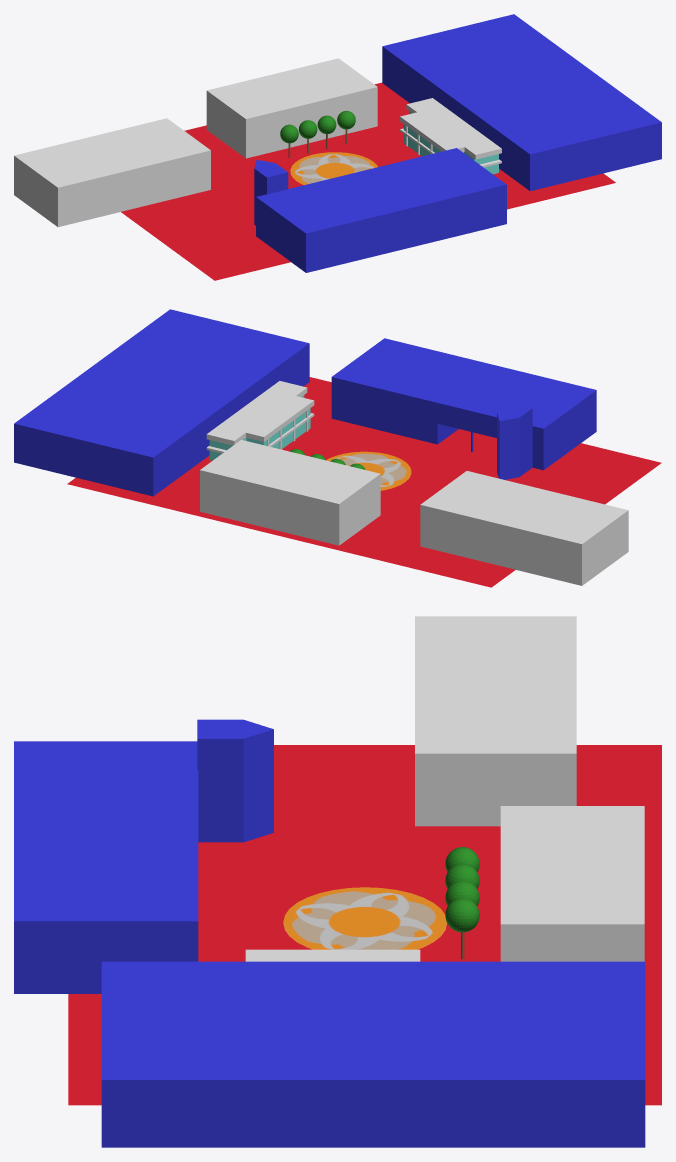
The model's file is mock1.glb.
The picture shows the model from 3 angles, top to bottom: view 1: azimuth 30°, elevation 25°; view 2: azimuth 150°, elevation 25°; view 3: azimuth 270°, elevation 25°; orthographic projection. The views are drawn at different scales.
Visible parts, largest first — view 1: Cube.001, Cube.003, ground, Cube.002, Cube, Cube.005, Cylinder, Cube.004, curry-glass; view 2: Cube.001, ground, Cube.003, Cube.002, Cube, Cube.005, Cube.004, Cylinder, curry-glass; view 3: Cube.001, ground, Cube.003, Cube.002, Cube, Cube.004, Cylinder, Cube.005, Sphere.
Boxes of the visible parts, x1=… form: Cube.001: x1=382, y1=14, x2=661, y2=191; Cube.003: x1=256, y1=148, x2=506, y2=272; ground: x1=121, y1=82, x2=615, y2=280; Cube.002: x1=14, y1=118, x2=210, y2=227; Cube: x1=206, y1=58, x2=377, y2=158; Cube.005: x1=400, y1=98, x2=501, y2=159; Cylinder: x1=290, y1=152, x2=377, y2=184; Cube.004: x1=254, y1=160, x2=288, y2=225; curry-glass: x1=403, y1=111, x2=498, y2=174; Cube.001: x1=14, y1=309, x2=309, y2=496; ground: x1=67, y1=377, x2=661, y2=587; Cube.003: x1=331, y1=338, x2=596, y2=470; Cube.002: x1=420, y1=471, x2=628, y2=585; Cube: x1=200, y1=440, x2=380, y2=545; Cube.005: x1=206, y1=381, x2=314, y2=445; Cube.004: x1=471, y1=402, x2=532, y2=479; Cylinder: x1=326, y1=451, x2=411, y2=490; curry-glass: x1=209, y1=395, x2=310, y2=460; Cube.001: x1=101, y1=961, x2=645, y2=1147; ground: x1=68, y1=745, x2=661, y2=1105; Cube.003: x1=14, y1=741, x2=198, y2=993; Cube.002: x1=415, y1=616, x2=576, y2=826; Cube: x1=500, y1=806, x2=644, y2=961; Cube.004: x1=197, y1=719, x2=273, y2=842; Cylinder: x1=283, y1=887, x2=446, y2=949; Cube.005: x1=245, y1=949, x2=420, y2=961; Sphere: x1=445, y1=898, x2=479, y2=932.
Size of the model in its own units: 4.89 by 0.5129 by 2.87.
Materials: 8 (1 with a texture image).
